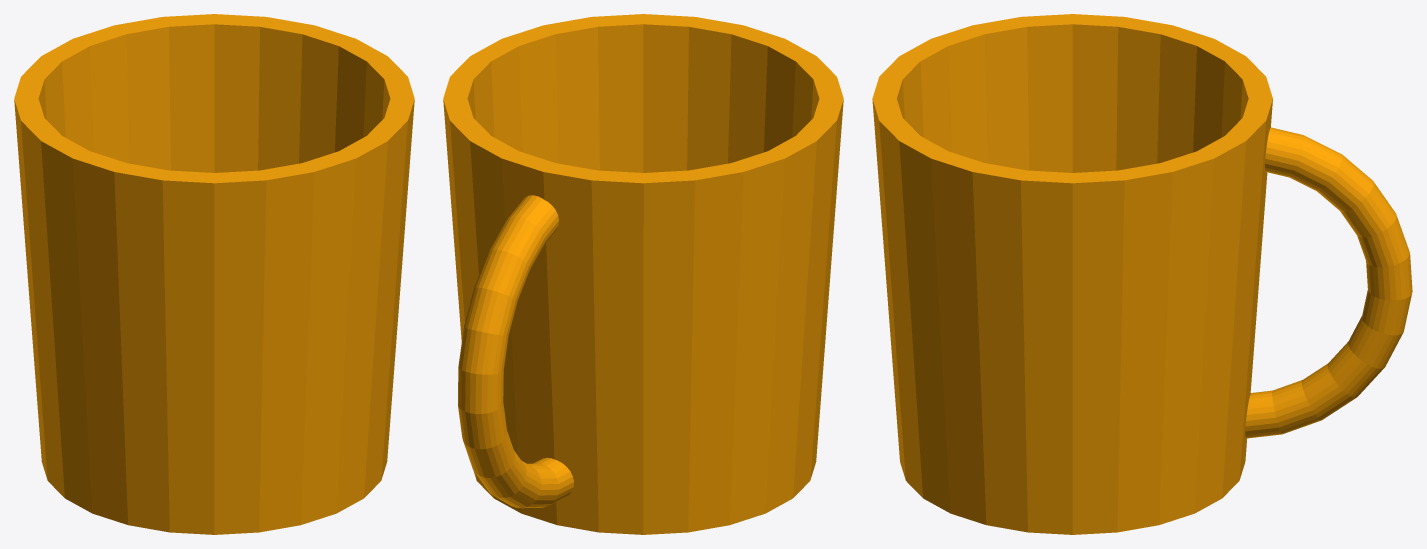
The picture shows the model from 3 angles, left to right: view 1: azimuth 30°, elevation 25°; view 2: azimuth 150°, elevation 25°; view 3: azimuth 270°, elevation 25°; orthographic projection.
Bounding box in the file's own units: 0.5117 × 0.5121 × 0.6899.
